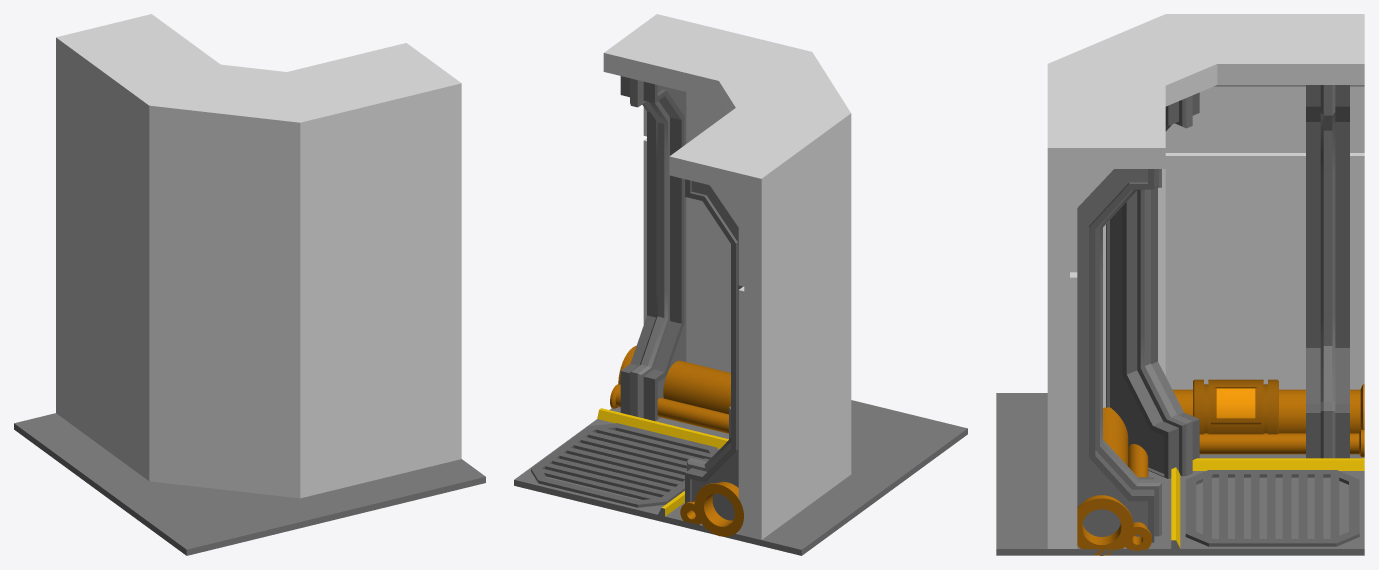
The model's file is Space_Ship_Set_3.fbx.
The picture shows the model from 3 angles, left to right: view 1: azimuth 30°, elevation 25°; view 2: azimuth 150°, elevation 25°; view 3: azimuth 270°, elevation 25°; orthographic projection. The views are drawn at different scales.
Parts seen in each view (by area): view 1: Space_Ship_Set_1_50mm_3; view 2: Space_Ship_Set_1_50mm_3; view 3: Space_Ship_Set_1_50mm_3.
Boxes of the visible parts, <box> form: Space_Ship_Set_1_50mm_3: <box>14,14,485,555</box>; Space_Ship_Set_1_50mm_3: <box>514,14,967,555</box>; Space_Ship_Set_1_50mm_3: <box>996,14,1364,555</box>.
Size of what is drawn, in the model's own units: 0.03 by 0.0366 by 0.03.
1 material, 1 textured.
